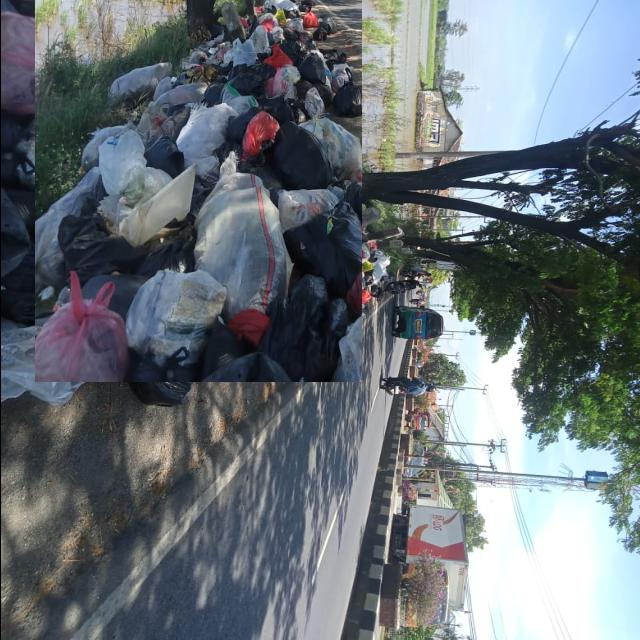garbage: (17, 3, 379, 365)
